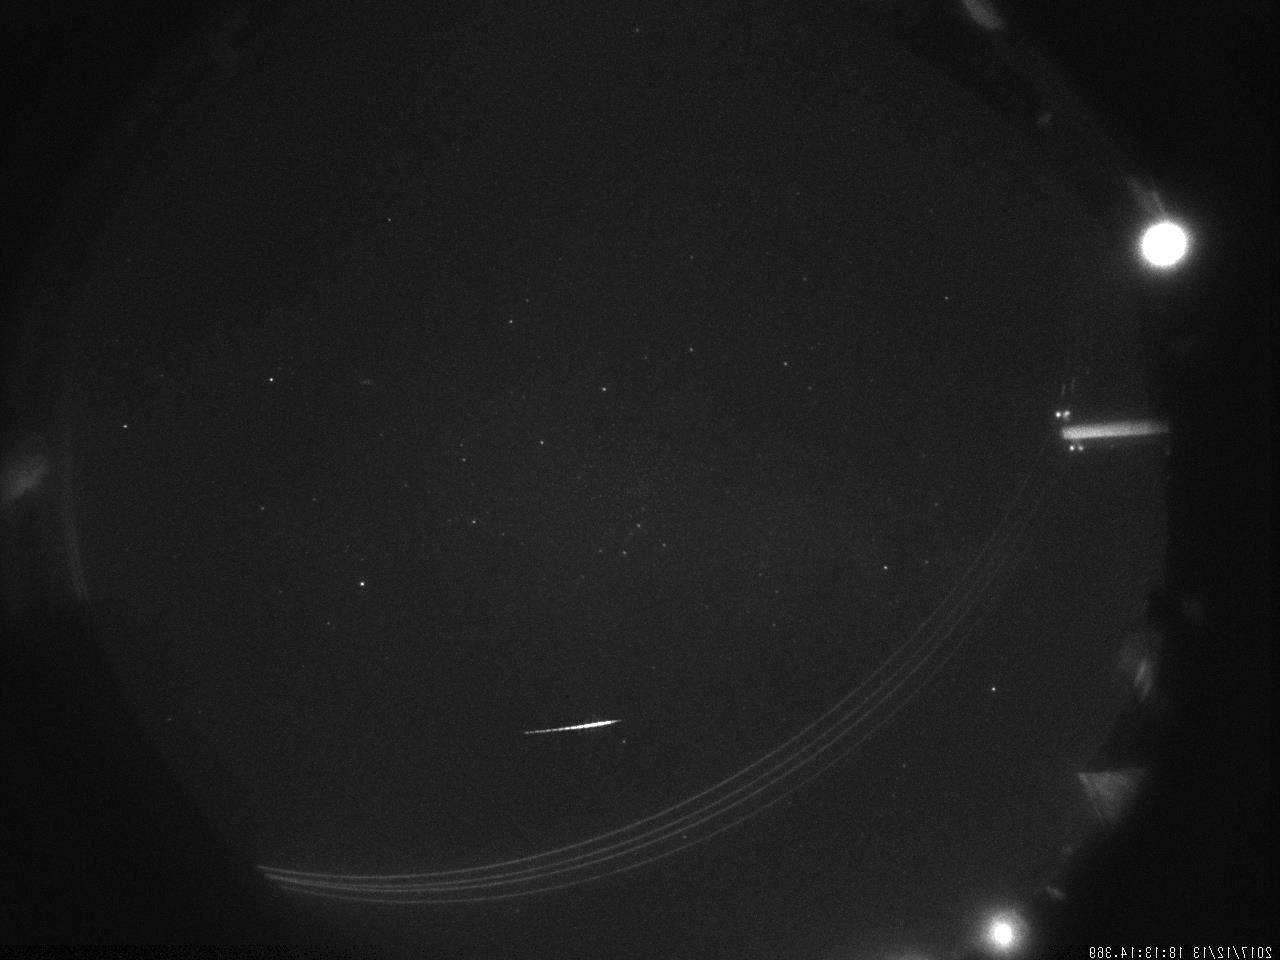meteor: (501, 705, 638, 771)
